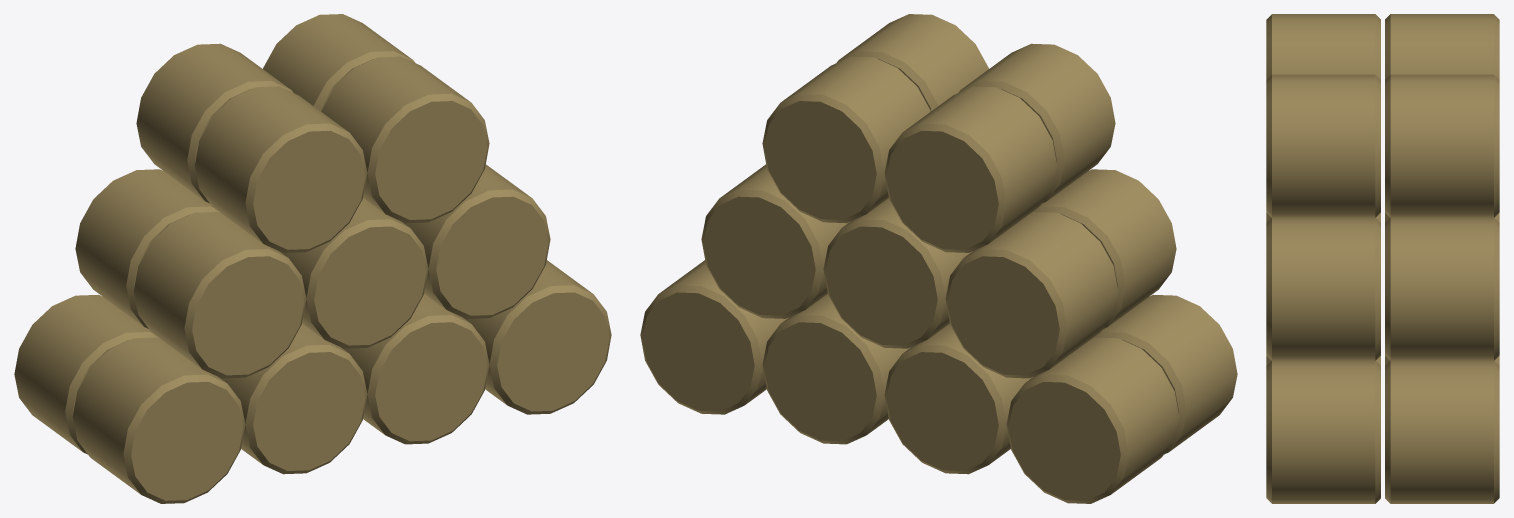
Rendered from SM_Prop_farm_bales_0.glb.
The picture shows the model from 3 angles, left to right: view 1: azimuth 30°, elevation 25°; view 2: azimuth 150°, elevation 25°; view 3: azimuth 270°, elevation 25°; orthographic projection.
Parts seen in each view (by area): view 1: SM_Prop_farm_bales_0; view 2: SM_Prop_farm_bales_0; view 3: SM_Prop_farm_bales_0.
Boxes of the visible parts, <box> form: SM_Prop_farm_bales_0: <box>14,14,611,503</box>; SM_Prop_farm_bales_0: <box>640,14,1237,503</box>; SM_Prop_farm_bales_0: <box>1266,14,1499,503</box>.
Size of the model in its own units: 6 by 4.1 by 2.44.
